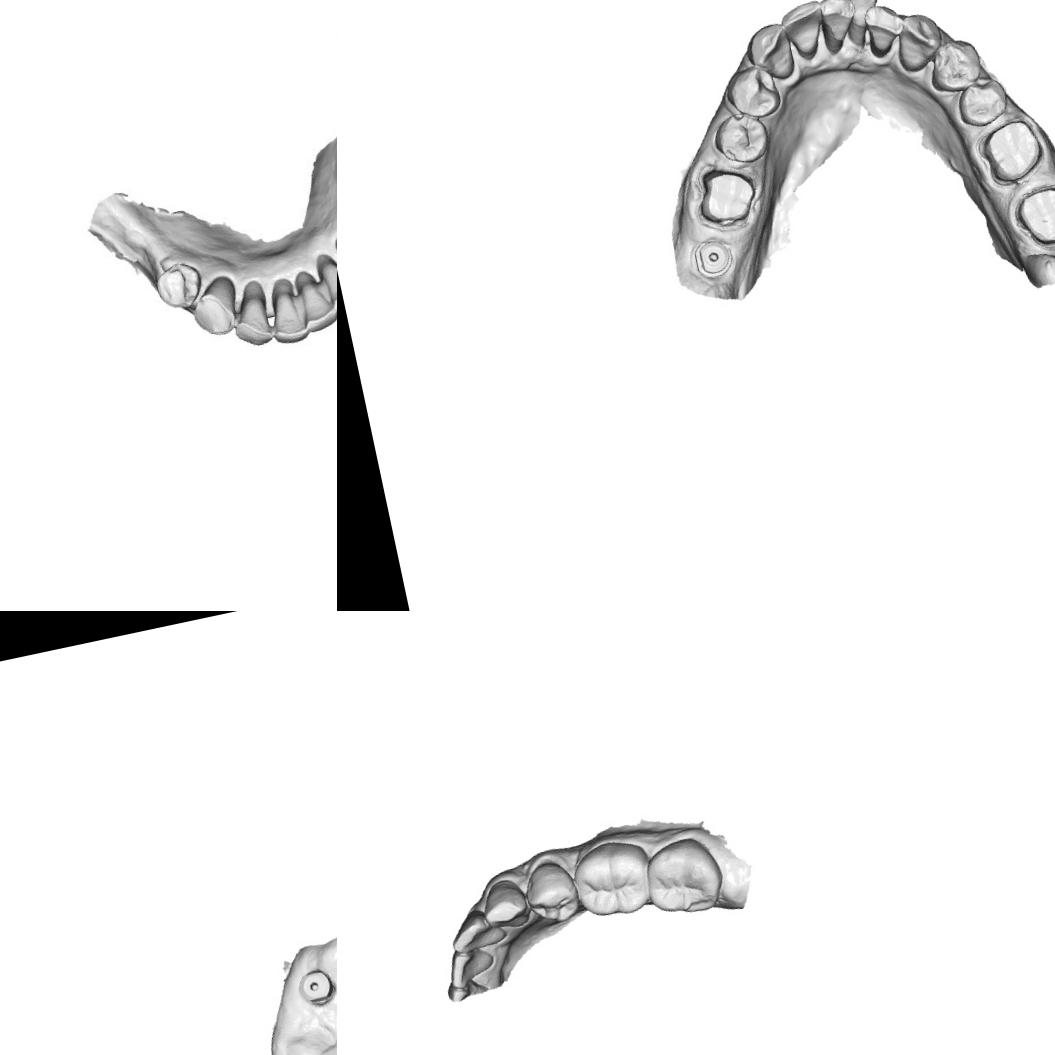canine: (740, 19, 800, 88), (890, 7, 948, 75), (184, 277, 239, 342), (475, 875, 532, 934)
crown: (978, 112, 1050, 192), (692, 162, 760, 231), (1010, 180, 1055, 251)
implant: (689, 236, 737, 280), (292, 965, 337, 1011)
incisor: (259, 278, 311, 350), (223, 285, 275, 352), (444, 903, 509, 954), (779, 0, 830, 63), (292, 267, 337, 338), (443, 946, 499, 992), (861, 0, 907, 53), (815, 0, 860, 47), (841, 0, 885, 32), (319, 250, 337, 320)
molar: (638, 832, 730, 926), (567, 834, 660, 924)
premolar: (520, 857, 582, 928), (923, 34, 989, 98), (721, 61, 785, 126), (710, 109, 777, 170), (951, 70, 1014, 132), (148, 258, 208, 314)
